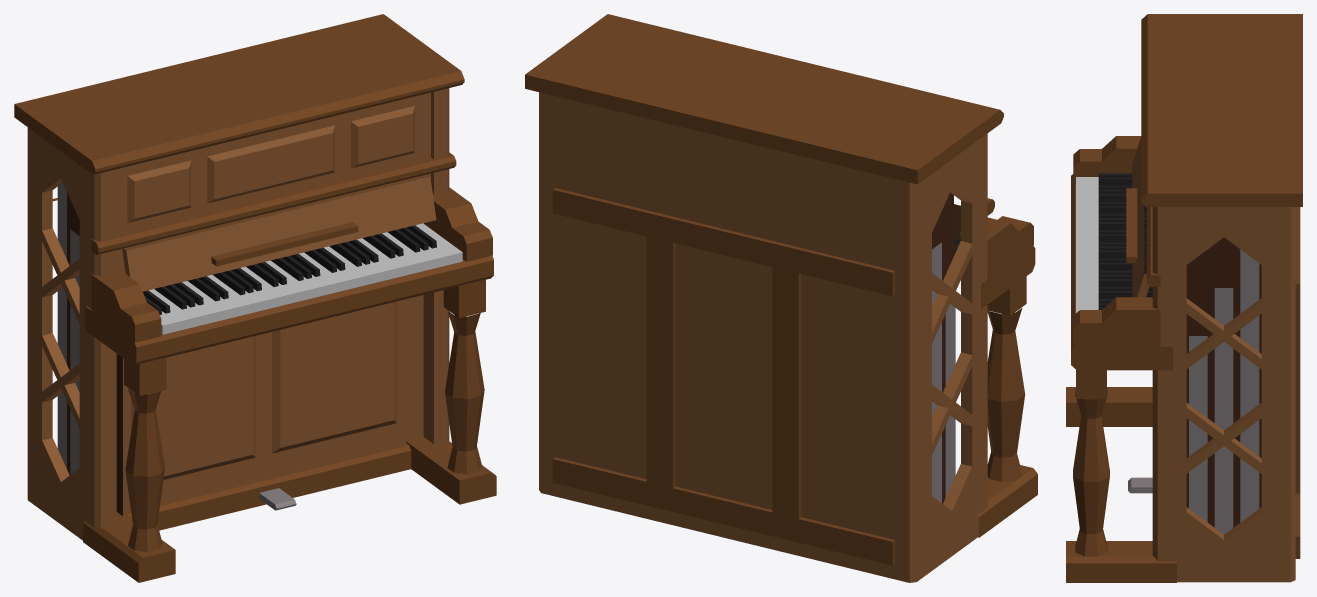
The model's file is celesta-a2ff99.glb.
The picture shows the model from 3 angles, left to right: view 1: azimuth 30°, elevation 25°; view 2: azimuth 150°, elevation 25°; view 3: azimuth 270°, elevation 25°; orthographic projection. The views are drawn at different scales.
Visible parts, largest first — view 1: celesta-body, lid-mesh, celesta-resonators; view 2: celesta-body, lid-mesh, celesta-resonators; view 3: celesta-body, lid-mesh, celesta-resonators, pedal-mesh.
Boxes of the visible parts, x1=… form: celesta-body: x1=27, y1=88, x2=496, y2=582; lid-mesh: x1=14, y1=14, x2=464, y2=174; celesta-resonators: x1=57, y1=182, x2=79, y2=474; celesta-body: x1=539, y1=92, x2=1037, y2=582; lid-mesh: x1=525, y1=14, x2=1003, y2=184; celesta-resonators: x1=932, y1=242, x2=955, y2=502; celesta-body: x1=1066, y1=136, x2=1300, y2=582; lid-mesh: x1=1141, y1=14, x2=1302, y2=206; celesta-resonators: x1=1189, y1=249, x2=1259, y2=534; pedal-mesh: x1=1128, y1=477, x2=1152, y2=493.
Size of the model in its own units: 1.04 by 1.06 by 0.58.
